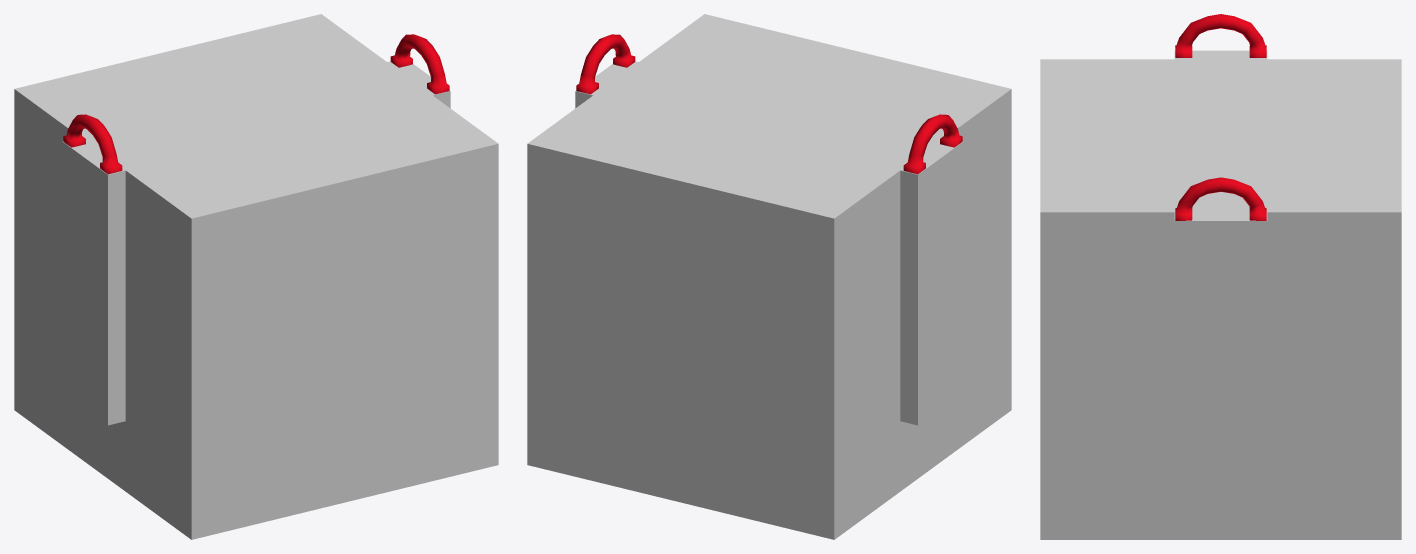
The model's file is LP_CAJARANDOM.fbx.
3 renders of one model, left to right at view 1: azimuth 30°, elevation 25°; view 2: azimuth 150°, elevation 25°; view 3: azimuth 270°, elevation 25°, orthographic. The views are drawn at different scales.
Visible parts, largest first — view 1: LP_Cube; view 2: LP_Cube; view 3: LP_Cube.
Part boxes in pixels (x1=…): LP_Cube: x1=14, y1=14, x2=498, y2=539; LP_Cube: x1=527, y1=14, x2=1011, y2=539; LP_Cube: x1=1040, y1=14, x2=1401, y2=539.
Size of the model in its own units: 223 by 224 by 200.
